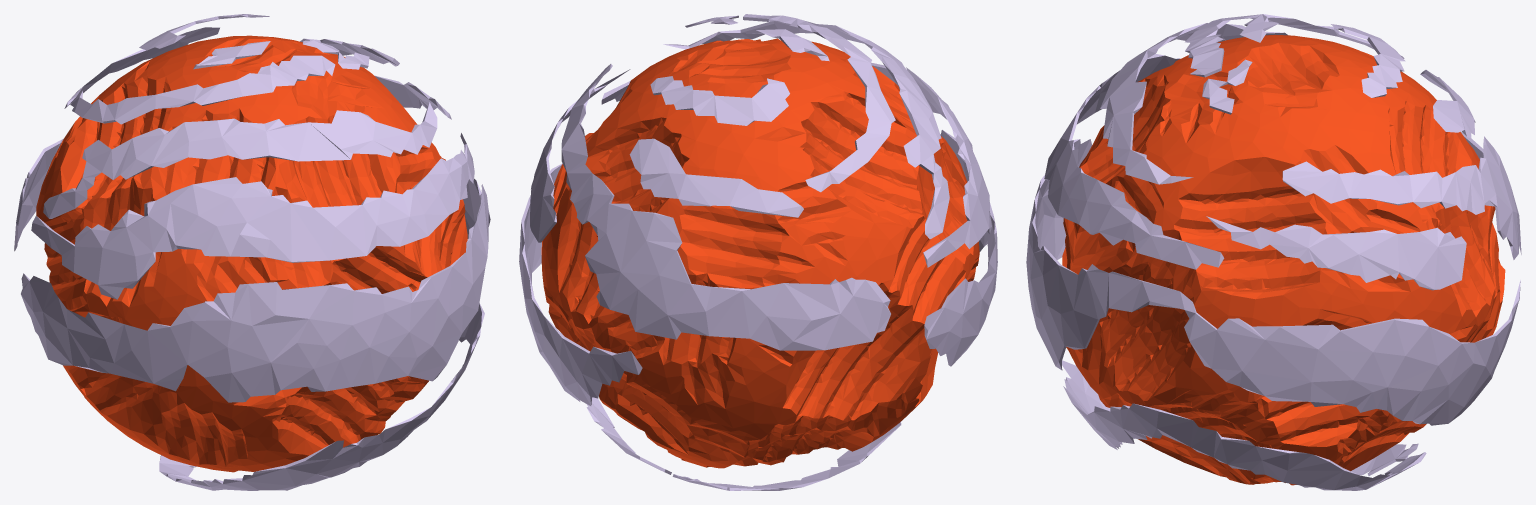
The model's file is Planet_46.glb.
The picture shows the model from 3 angles, left to right: view 1: azimuth 30°, elevation 25°; view 2: azimuth 150°, elevation 25°; view 3: azimuth 270°, elevation 25°; orthographic projection. The views are drawn at different scales.
Visible parts, largest first — view 1: Planet_46; view 2: Planet_46; view 3: Planet_46.
Part boxes in pixels (left/top/right/bottom): Planet_46: left=14, top=14, right=490, bottom=490; Planet_46: left=519, top=14, right=997, bottom=490; Planet_46: left=1026, top=14, right=1521, bottom=490.
Bounding box in the file's own units: 21.96 × 21.64 × 22.
Materials: 1 (1 with a texture image).
